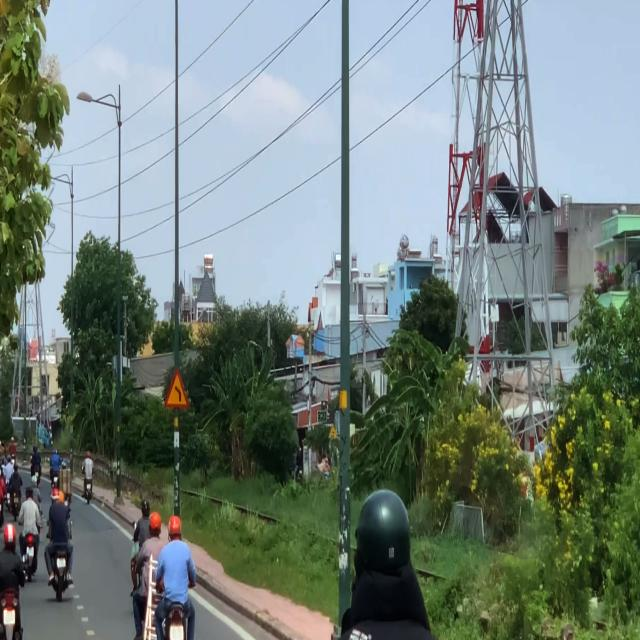Nguy hiem: (165, 371, 189, 407)
